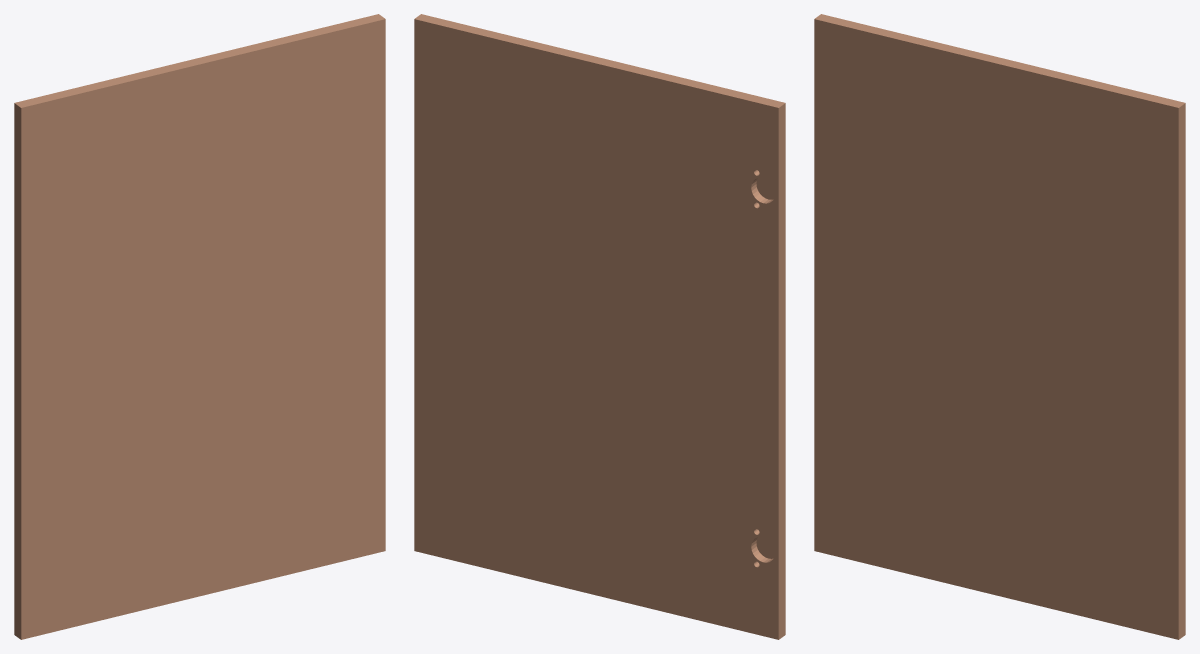
Rendered from B4_dor_venstre.glb.
3 renders of one model, left to right at view 1: azimuth 30°, elevation 25°; view 2: azimuth 150°, elevation 25°; view 3: azimuth 330°, elevation 25°, orthographic.
Bounding box in the file's own units: 530 × 738 × 17.4.
